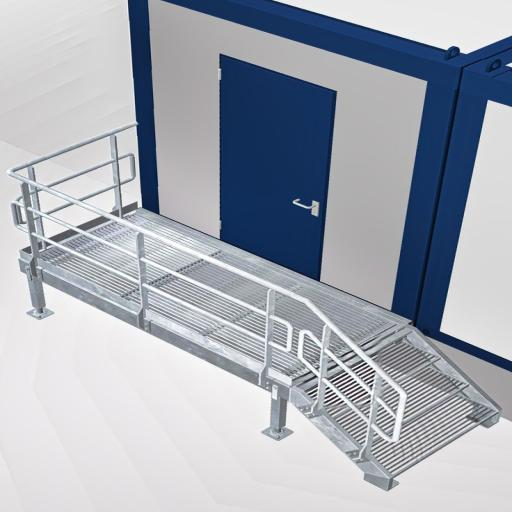corridor: (221, 56, 335, 278)
pole: (27, 201, 510, 489)
